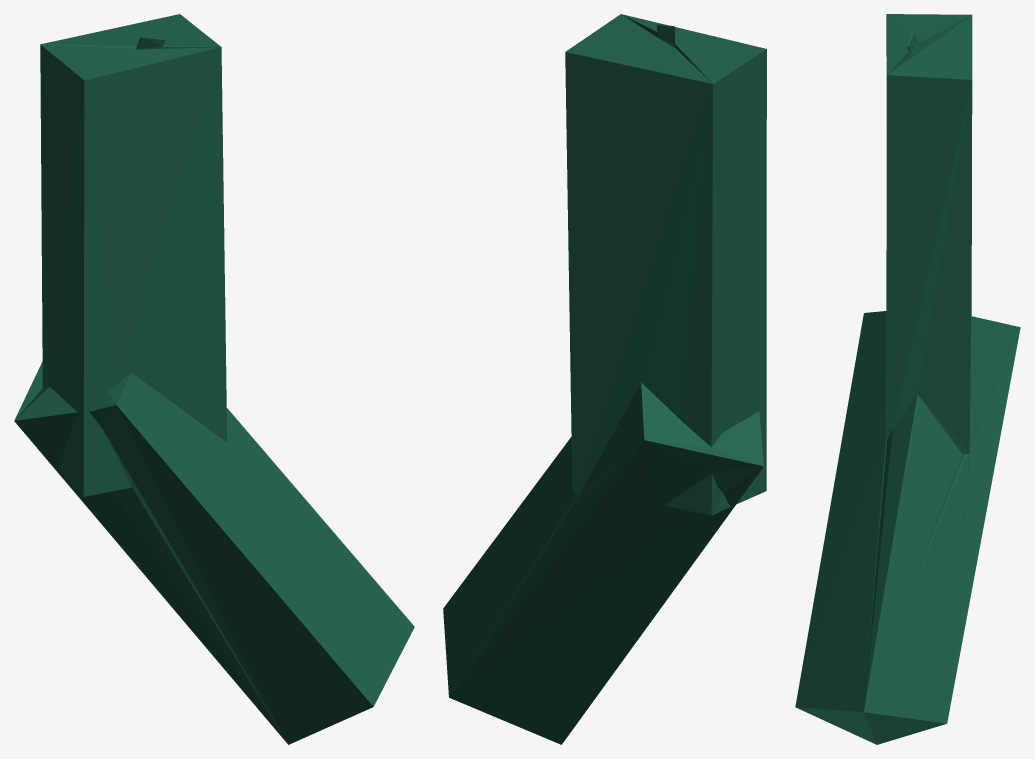
3 renders of one model, left to right at view 1: azimuth 30°, elevation 25°; view 2: azimuth 150°, elevation 25°; view 3: azimuth 270°, elevation 25°, orthographic. The views are drawn at different scales.
Visible parts, largest first — view 1: 228_Cube.936; view 2: 228_Cube.936; view 3: 228_Cube.936.
Boxes of the visible parts, x1,y1,x2,y2 form: 228_Cube.936: [14, 14, 414, 744]; 228_Cube.936: [443, 14, 766, 744]; 228_Cube.936: [795, 14, 1020, 744].
Size of the model in its own units: 10.6 by 20.85 by 6.49.
